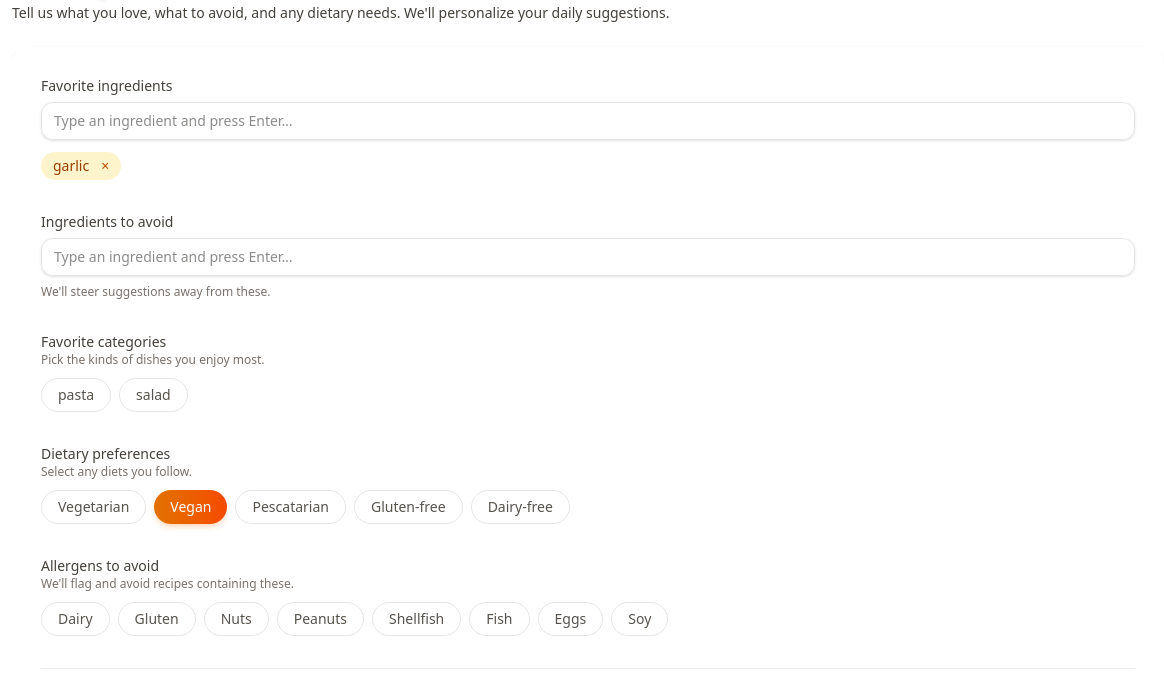
Test: PreferencesPage › keeps the save button disabled until the draft changes
What coordinates should you click on to do the following:
click the button "pasta"
I would click on:
 (76, 395)
Its box is [41,378,111,412].
(page scrolled)
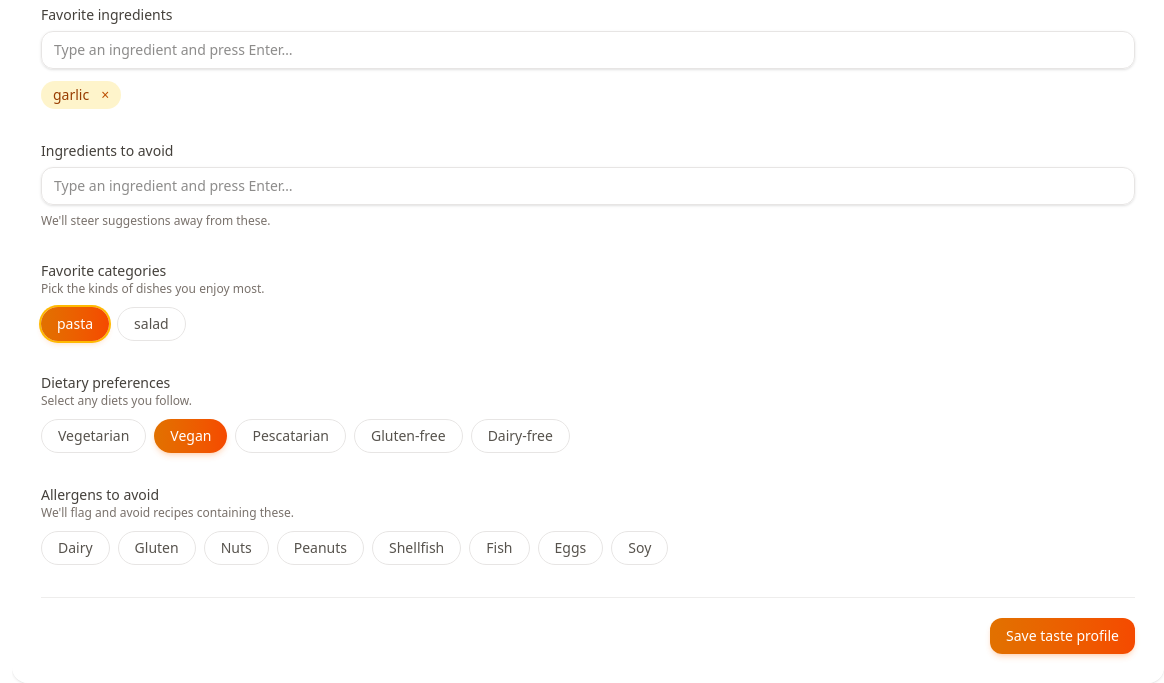
Result: the button "Save taste profile" is enabled at [990,618,1135,654]
